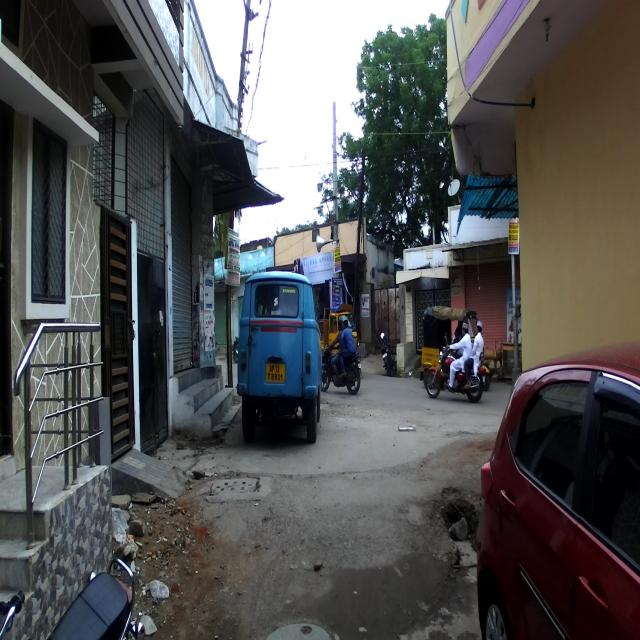autorickshaw: (419, 306, 490, 390)
car: (476, 342, 640, 640)
motorcycle: (0, 552, 139, 639), (425, 329, 486, 403)
truck: (237, 271, 322, 443)
